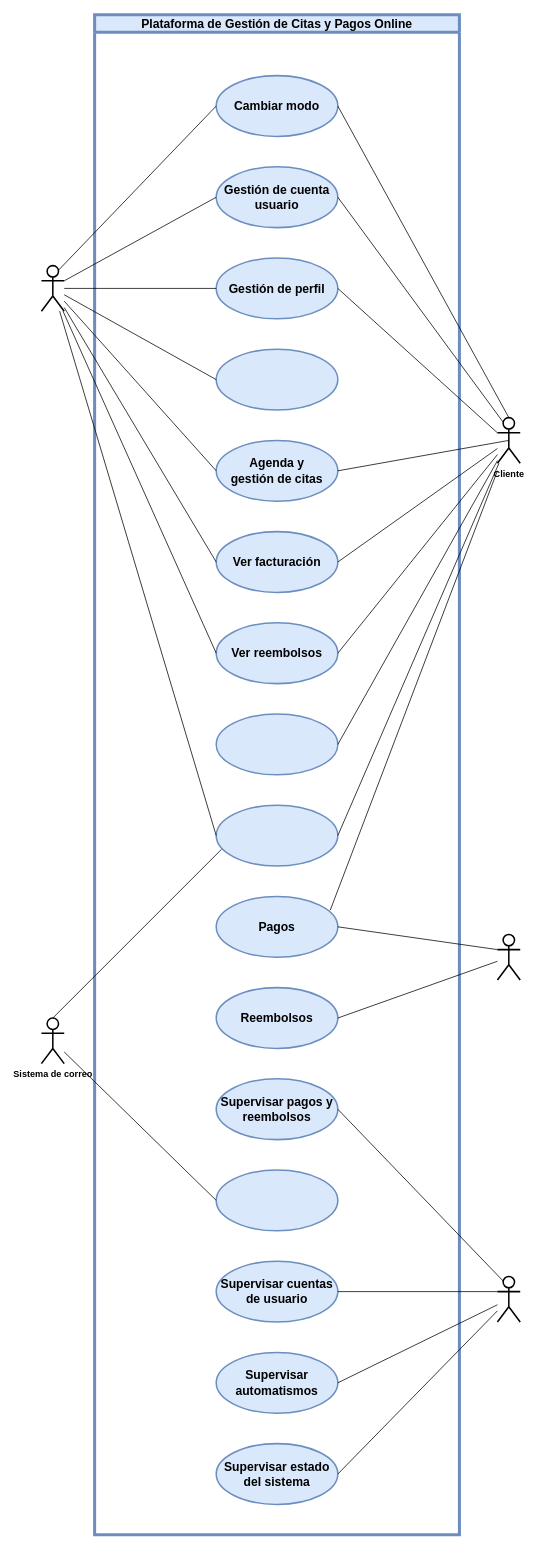
Some shapes in this 558 by 1549 pixel diagram are drawn without their labels. Each missing label, with the box of its shape:
Administrador: (496, 1275, 521, 1322)
Automatismos / notificaciones: (215, 1169, 338, 1231)
Comunicación cliente-profesional: (215, 804, 338, 866)
Explorar profesionales y servicios: (215, 713, 338, 775)
Gestión de servicios: (215, 348, 338, 410)
Profesional: (40, 264, 65, 312)
Sistema de pago: (496, 933, 521, 980)
